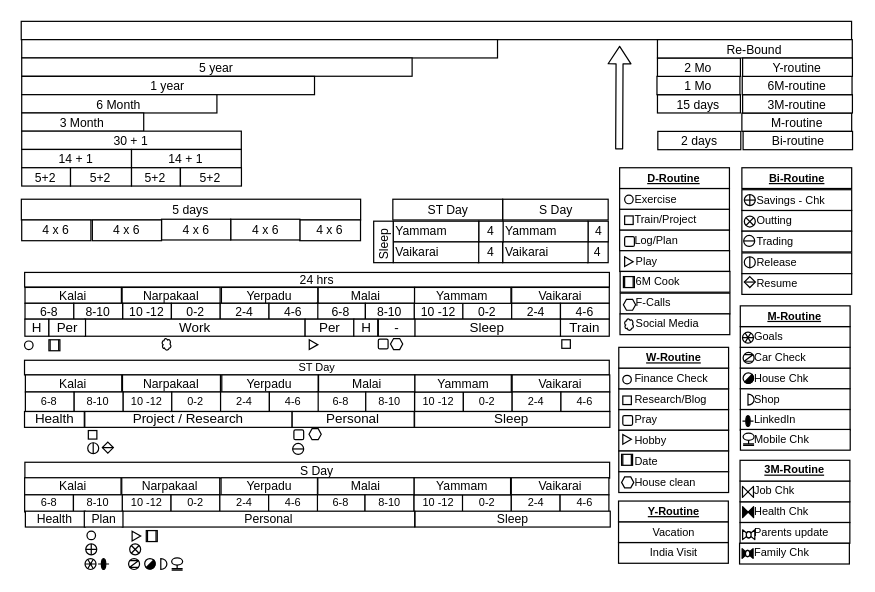
Some shapes in this 875 by 592 pixel diagram are drawn without their labels. Each missing label, with the centre of its shape:
10 year: (x=259, y=48)
The Goal: (x=436, y=30)
